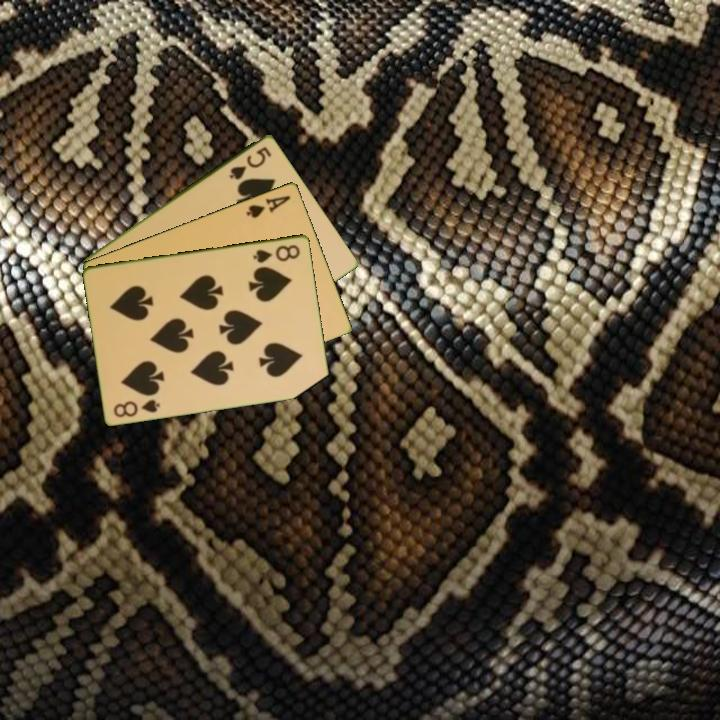5s: (225, 142, 275, 183)
8s: (110, 395, 163, 420), (250, 241, 303, 265)
As: (243, 192, 294, 221)
